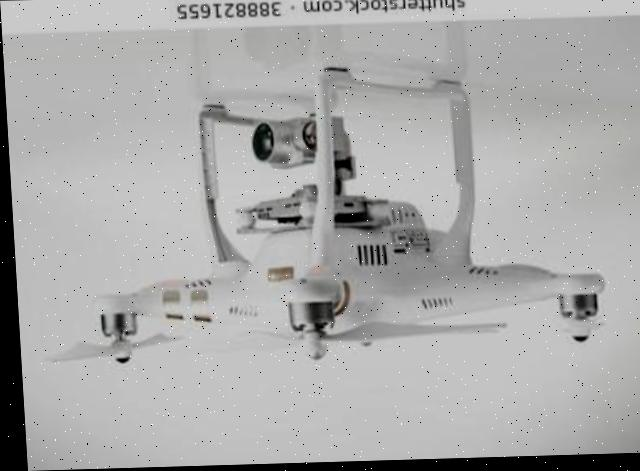drone: (39, 55, 612, 380)
